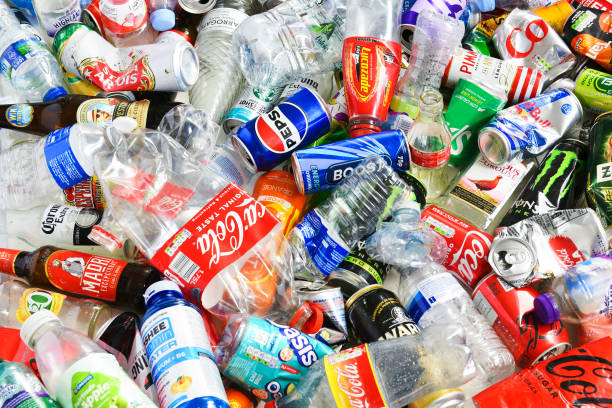glass: (2, 236, 151, 308), (404, 87, 452, 204)
metal: (54, 25, 198, 98), (495, 207, 609, 289), (483, 88, 581, 165), (243, 86, 326, 172)
plastic: (108, 132, 318, 337), (273, 338, 479, 408), (403, 256, 508, 380), (343, 0, 402, 142)
